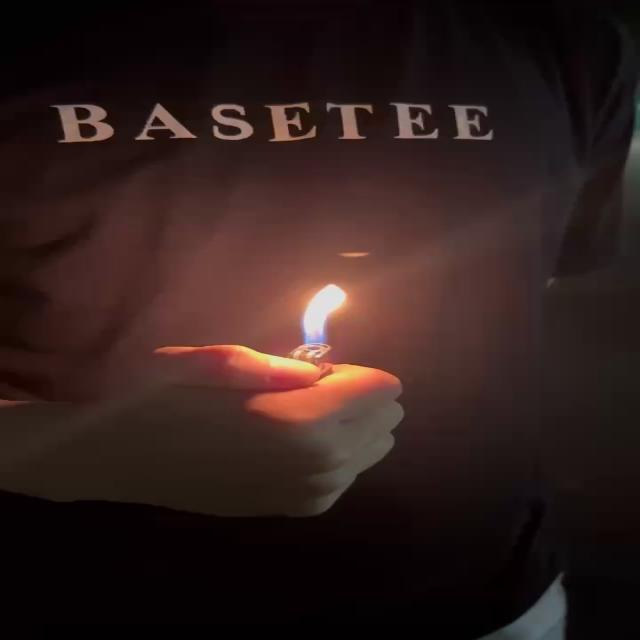Fire: (299, 283, 358, 353)
